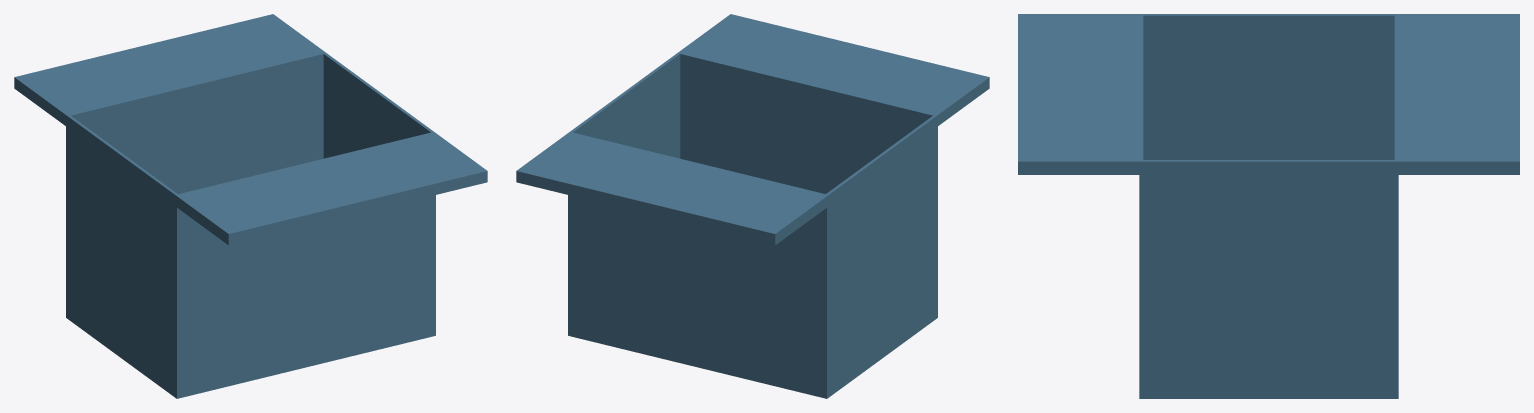
The model's file is Blue_Big_Open_Box.fbx.
3 views of the same model, side by side, from view 1: azimuth 30°, elevation 25°; view 2: azimuth 150°, elevation 25°; view 3: azimuth 270°, elevation 25° (orthographic). The views are drawn at different scales.
Visible parts, largest first — view 1: Blue_Big_Open_Box; view 2: Blue_Big_Open_Box; view 3: Blue_Big_Open_Box.
Part boxes in pixels (x1=…): Blue_Big_Open_Box: x1=14, y1=14, x2=487, y2=398; Blue_Big_Open_Box: x1=516, y1=14, x2=989, y2=398; Blue_Big_Open_Box: x1=1018, y1=14, x2=1519, y2=398.
Bounding box in the file's own units: 85.31 × 63.83 × 122.
